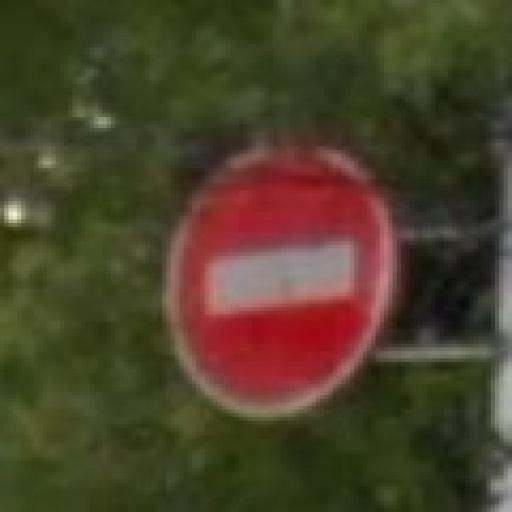traffic_sign: (163, 137, 398, 426)
